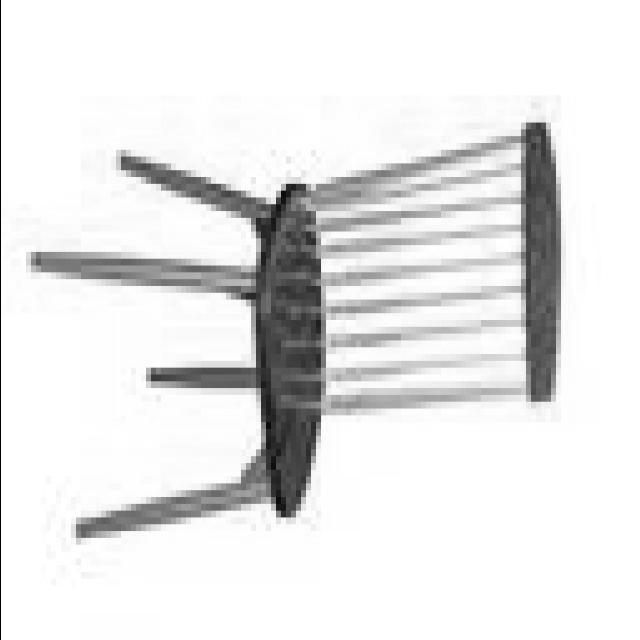chair: (32, 120, 564, 546)
